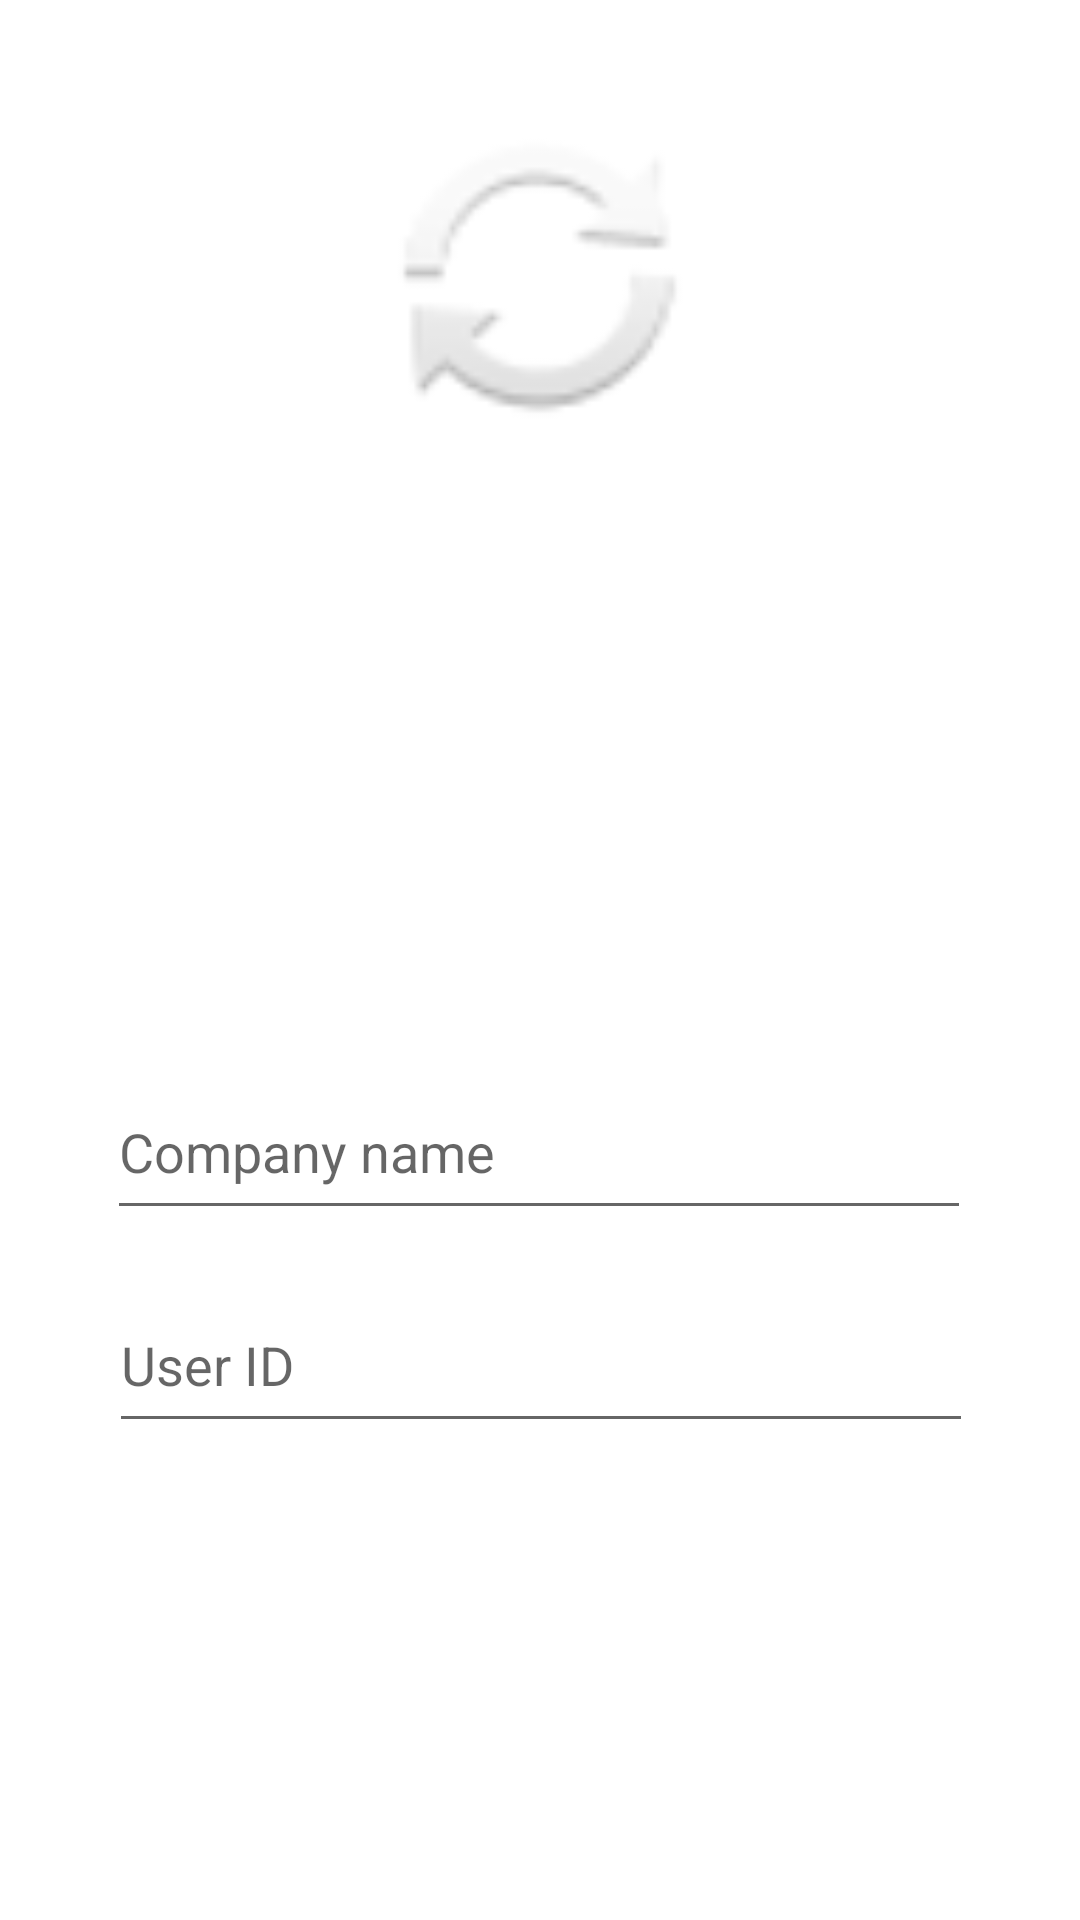

Icons on this 1080px x 1920px Android screen, each with the point to tap as [x,y]:
popup sync: [538,291]
